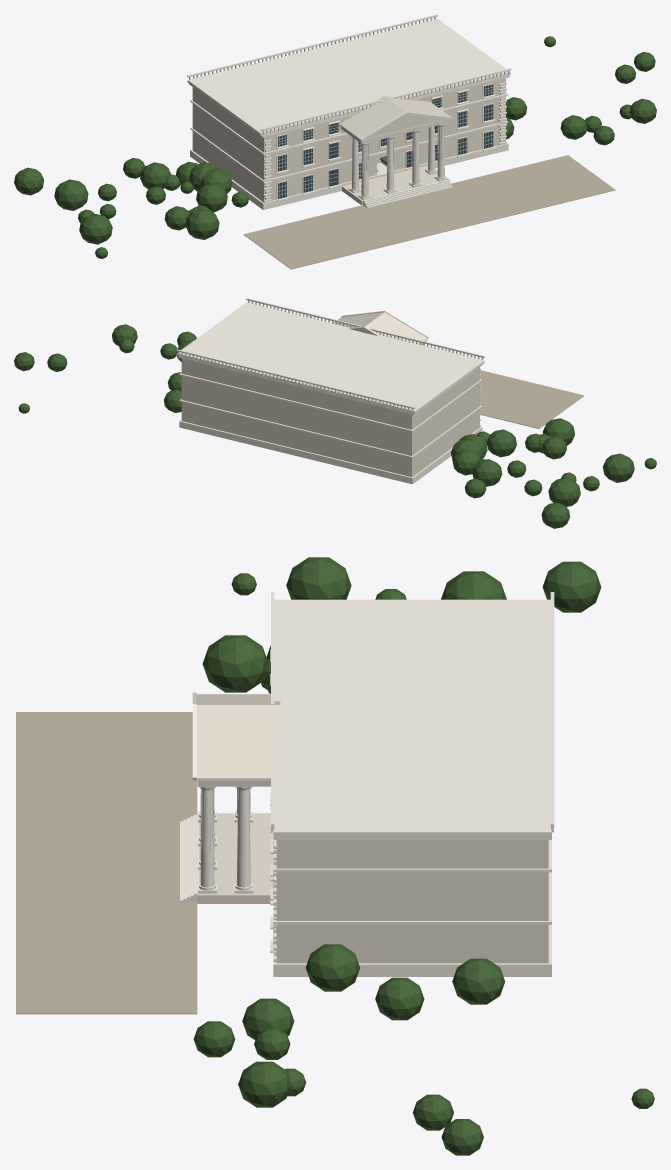
File: Weisses-Haus-Innen.glb
3 renders of one model, top to bottom at view 1: azimuth 30°, elevation 25°; view 2: azimuth 150°, elevation 25°; view 3: azimuth 270°, elevation 25°, orthographic. The views are drawn at different scales.
Parts seen in each view (by area): view 1: Cube.008, Cube.442, Cube.001, ResidenceSolidCore, Cube.002, Giebel, ResidenceOriginalPlinth, Cube.433, Icosphere.026, Icosphere.018, Cube.005, Icosphere.003 (+14 smaller); view 2: ResidenceSolidCore, Cube.008, Cube.442, ResidenceOriginalPlinth, Giebel, Cube.006, Cube.005, Cube.007, Icosphere.003, Icosphere.026, Cube.075, Cube.001 (+10 smaller); view 3: Cube.008, Cube.442, ResidenceSolidCore, Giebel, Cube.002, Cube.433, Icosphere.018, ResidenceOriginalPlinth, Icosphere.003, Icosphere.004, Icosphere.008, Icosphere.012 (+14 smaller).
Boxes of the visible parts, bbox=[...] form: Cube.008: bbox=[187, 19, 510, 135]; Cube.442: bbox=[243, 155, 615, 269]; Cube.001: bbox=[252, 116, 376, 202]; ResidenceSolidCore: bbox=[192, 87, 380, 193]; Cube.002: bbox=[393, 78, 505, 170]; Giebel: bbox=[340, 96, 449, 138]; ResidenceOriginalPlinth: bbox=[190, 143, 508, 209]; Cube.433: bbox=[342, 165, 449, 205]; Icosphere.026: bbox=[54, 179, 88, 210]; Icosphere.018: bbox=[185, 208, 219, 239]; Cube.005: bbox=[190, 120, 508, 182]; Icosphere.003: bbox=[79, 213, 112, 244]; ResidenceSolidCore: bbox=[181, 359, 468, 476]; Cube.008: bbox=[176, 302, 484, 413]; Cube.442: bbox=[480, 370, 584, 428]; ResidenceOriginalPlinth: bbox=[179, 420, 482, 484]; Giebel: bbox=[333, 312, 427, 344]; Cube.006: bbox=[179, 372, 481, 431]; Cube.005: bbox=[179, 399, 481, 458]; Cube.007: bbox=[178, 356, 483, 415]; Icosphere.003: bbox=[603, 453, 634, 482]; Icosphere.026: bbox=[548, 477, 580, 506]; Cube.075: bbox=[176, 349, 415, 409]; Cube.001: bbox=[468, 367, 479, 434]; Cube.008: bbox=[273, 599, 551, 836]; Cube.442: bbox=[16, 712, 197, 1014]; ResidenceSolidCore: bbox=[322, 840, 548, 963]; Giebel: bbox=[196, 694, 280, 777]; Cube.002: bbox=[276, 840, 321, 963]; Cube.433: bbox=[197, 813, 273, 903]; Icosphere.018: bbox=[202, 635, 267, 692]; ResidenceOriginalPlinth: bbox=[273, 924, 551, 976]; Icosphere.003: bbox=[286, 557, 351, 599]; Icosphere.004: bbox=[542, 561, 601, 612]; Icosphere.008: bbox=[305, 944, 359, 991]; Icosphere.012: bbox=[238, 1061, 291, 1107].
Size of what is drawn, in the model's own units: 119 by 16.22 by 56.39.
